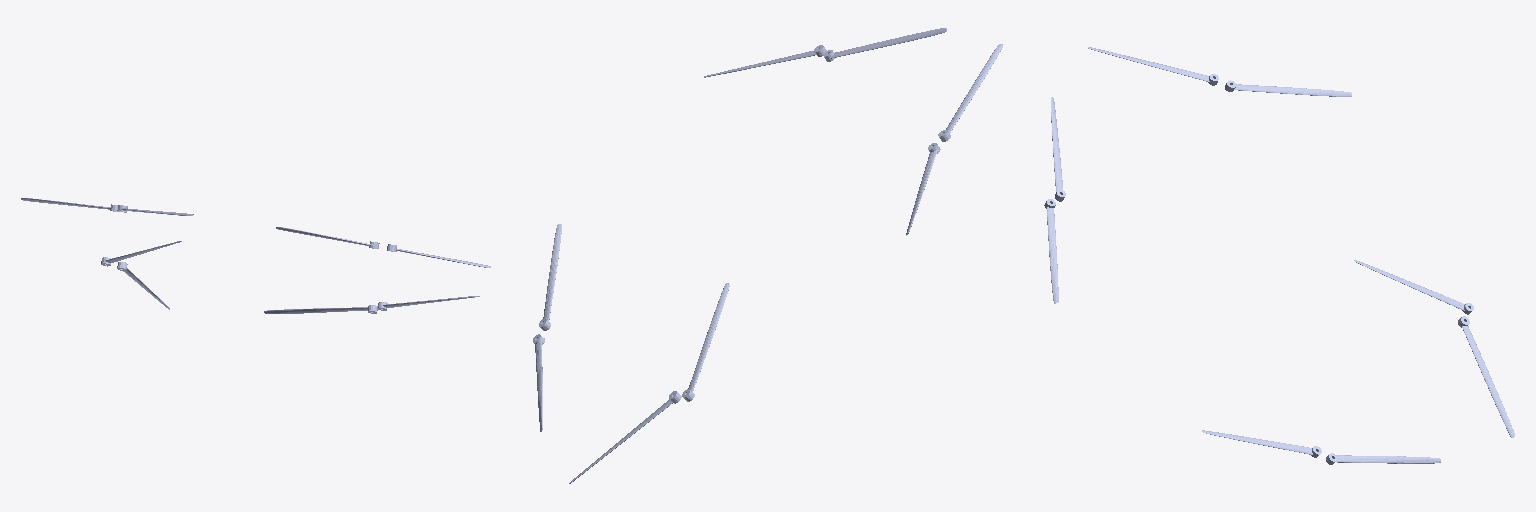
URDF robot description (drone_urdf):
<?xml version="1.0" encoding="utf-8"?>
<!-- This URDF was automatically created by SolidWorks to URDF Exporter! Originally created by Stephen Brawner ([email redacted]) 
     Commit Version: 1.6.0-4-g7f85cfe  Build Version: 1.6.7995.38578
     For more information, please see http://wiki.ros.org/sw_urdf_exporter -->
<robot
  name="drone_urdf">
  <link
    name="base_link">
    <inertial>
      <origin
        xyz="-0.22933 -0.047325 0.32585"
        rpy="0 0 0" />
      <mass
        value="0.075316" />
      <inertia
        ixx="3.199E-05"
        ixy="9.4555E-06"
        ixz="7.28E-06"
        iyy="3.8566E-05"
        iyz="6.4826E-06"
        izz="5.1988E-05" />
    </inertial>
    <visual>
      <origin
        xyz="0 0 0"
        rpy="0 0 0" />
      <geometry>
        <mesh
          filename="package://drone_urdf/meshes/base_link.STL" />
      </geometry>
      <material
        name="">
        <color
          rgba="0.77647 0.75686 0.73725 1" />
      </material>
    </visual>
    <collision>
      <origin
        xyz="0 0 0"
        rpy="0 0 0" />
      <geometry>
        <mesh
          filename="package://drone_urdf/meshes/base_link.STL" />
      </geometry>
    </collision>
  </link>
  <link
    name="link_1">
    <inertial>
      <origin
        xyz="-0.00344655828794099 0.0295272609946485 0.00249371751803434"
        rpy="0 0 0" />
      <mass
        value="0.000916817465364918" />
      <inertia
        ixx="3.31093966645169E-07"
        ixy="2.89753377129769E-08"
        ixz="-1.12366763520245E-07"
        iyy="5.02209939780366E-07"
        iyz="1.95786019627078E-08"
        izz="1.81490268638992E-07" />
    </inertial>
    <visual>
      <origin
        xyz="0 0 0"
        rpy="0 0 0" />
      <geometry>
        <mesh
          filename="package://drone_urdf/meshes/link_1.STL" />
      </geometry>
      <material
        name="">
        <color
          rgba="0.792156862745098 0.819607843137255 0.933333333333333 1" />
      </material>
    </visual>
    <collision>
      <origin
        xyz="0 0 0"
        rpy="0 0 0" />
      <geometry>
        <mesh
          filename="package://drone_urdf/meshes/link_1.STL" />
      </geometry>
    </collision>
  </link>
  <joint
    name="propeller_1"
    type="revolute">
    <origin
      xyz="-0.26783 0.065405 0.26788"
      rpy="2.2976 0.029001 2.1317" />
    <parent
      link="base_link" />
    <child
      link="link_1" />
    <axis
      xyz="0.16776 0.98583 1.5029E-05" />
    <limit
      lower="-3.14"
      upper="3.14"
      effort="0"
      velocity="0" />
  </joint>
  <link
    name="link_2">
    <inertial>
      <origin
        xyz="0.0063232246271604 0.00298191709067125 -0.00459013776990662"
        rpy="0 0 0" />
      <mass
        value="0.000916900513768312" />
      <inertia
        ixx="4.91222974554422E-07"
        ixy="2.95354426347088E-09"
        ixz="5.95144519639976E-08"
        iyy="5.06463827705564E-07"
        iyz="-1.00689469577819E-08"
        izz="1.71745570553114E-08" />
    </inertial>
    <visual>
      <origin
        xyz="0 0 0"
        rpy="0 0 0" />
      <geometry>
        <mesh
          filename="package://drone_urdf/meshes/link_2.STL" />
      </geometry>
      <material
        name="">
        <color
          rgba="0.792156862745098 0.819607843137255 0.933333333333333 1" />
      </material>
    </visual>
    <collision>
      <origin
        xyz="0 0 0"
        rpy="0 0 0" />
      <geometry>
        <mesh
          filename="package://drone_urdf/meshes/link_2.STL" />
      </geometry>
    </collision>
  </link>
  <joint
    name="propeller_2"
    type="revolute">
    <origin
      xyz="-0.34097 -0.059518 0.39988"
      rpy="1.8324 -0.60259 -2.965" />
    <parent
      link="base_link" />
    <child
      link="link_2" />
    <axis
      xyz="0.16776 0.98583 1.5029E-05" />
    <limit
      lower="-3.14"
      upper="3.14"
      effort="0"
      velocity="0" />
  </joint>
  <link
    name="link_3">
    <inertial>
      <origin
        xyz="-0.00517123368880112 -0.00278858176405623 -0.00478850904181459"
        rpy="0 0 0" />
      <mass
        value="0.000916876030822966" />
      <inertia
        ixx="4.99833821078108E-07"
        ixy="1.39310458754429E-09"
        ixz="-3.89021698417036E-08"
        iyy="5.06727369502954E-07"
        iyz="8.81931682124519E-09"
        izz="8.26498173119016E-09" />
    </inertial>
    <visual>
      <origin
        xyz="0 0 0"
        rpy="0 0 0" />
      <geometry>
        <mesh
          filename="package://drone_urdf/meshes/link_3.STL" />
      </geometry>
      <material
        name="">
        <color
          rgba="0.792156862745098 0.819607843137255 0.933333333333333 1" />
      </material>
    </visual>
    <collision>
      <origin
        xyz="0 0 0"
        rpy="0 0 0" />
      <geometry>
        <mesh
          filename="package://drone_urdf/meshes/link_3.STL" />
      </geometry>
    </collision>
  </link>
  <joint
    name="propeller_3"
    type="revolute">
    <origin
      xyz="-0.124602663337415 -5.69311707367523E-05 0.258306010014126"
      rpy="-1.95936528115515 0.847293975509765 0.24773775116358" />
    <parent
      link="base_link" />
    <child
      link="link_3" />
    <axis
      xyz="0.16775794509839 0.985828216085593 1.50287371735724E-05" />
    <limit
      lower="-3.14"
      upper="3.14"
      effort="0"
      velocity="0" />
  </joint>
  <link
    name="link_4">
    <inertial>
      <origin
        xyz="0.012387873274163 0.0541808207049662 -0.00438032099966734"
        rpy="0 0 0" />
      <mass
        value="0.000916951821287997" />
      <inertia
        ixx="5.06003153111362E-07"
        ixy="1.52660988085531E-10"
        ixz="-3.39387037748263E-09"
        iyy="5.06965866907931E-07"
        iyz="5.8412028748047E-10"
        izz="1.84731651376509E-09" />
    </inertial>
    <visual>
      <origin
        xyz="0 0 0"
        rpy="0 0 0" />
      <geometry>
        <mesh
          filename="package://drone_urdf/meshes/link_4.STL" />
      </geometry>
      <material
        name="">
        <color
          rgba="0.792156862745098 0.819607843137255 0.933333333333333 1" />
      </material>
    </visual>
    <collision>
      <origin
        xyz="0 0 0"
        rpy="0 0 0" />
      <geometry>
        <mesh
          filename="package://drone_urdf/meshes/link_4.STL" />
      </geometry>
    </collision>
  </link>
  <joint
    name="propeller_4"
    type="revolute">
    <origin
      xyz="-0.22567 -0.18251 0.33974"
      rpy="1.9773 0.12177 1.6732" />
    <parent
      link="base_link" />
    <child
      link="link_4" />
    <axis
      xyz="0.16776 0.98583 1.5029E-05" />
    <limit
      lower="-3.14"
      upper="3.14"
      effort="0"
      velocity="0" />
  </joint>
</robot>

--- Render facts (derived) ---
Views: 3 orthographic renders of the robot side by side, from view 1: azimuth 30°, elevation 25°; view 2: azimuth 150°, elevation 25°; view 3: azimuth 270°, elevation 25°.
Model drone_urdf with 5 links and 4 joints (4 revolute), rooted at base_link, posed all joints at 0.
Visible links, largest first — view 1: link_3, link_4, link_1, link_2; view 2: link_1, link_3, link_4, link_2; view 3: link_1, link_3, link_2, link_4.
Link boxes in pixels (box(x1,y1,x2,y2)): link_3: box(264, 296, 479, 313); link_4: box(276, 227, 490, 267); link_1: box(101, 241, 181, 309); link_2: box(21, 198, 193, 215); link_1: box(569, 283, 729, 483); link_3: box(533, 224, 561, 431); link_4: box(704, 28, 946, 77); link_2: box(906, 44, 1002, 235); link_1: box(1354, 260, 1514, 437); link_3: box(1202, 430, 1440, 464); link_2: box(1088, 47, 1351, 96); link_4: box(1044, 97, 1065, 303).
Size in the robot's own frame: 0.2741 by 0.2792 by 0.1956 metres.
4 mesh visuals loaded from 5 distinct referenced files (4 binary STL); not drawn: 1 (reference not matched to a file when rendering).
